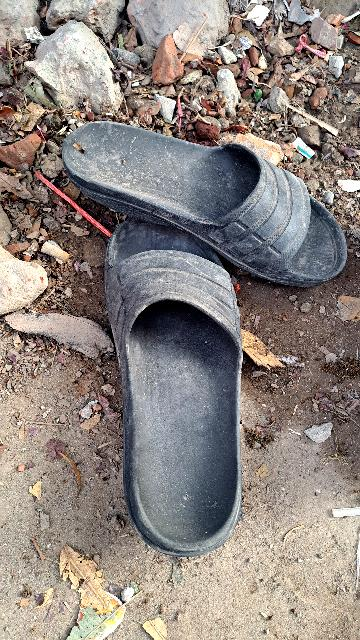sandal: (45, 101, 360, 288), (104, 217, 252, 564)
